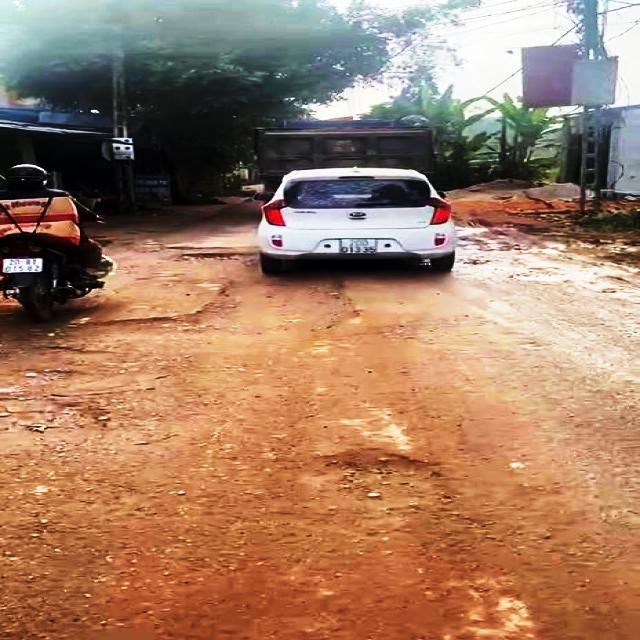pothole: (85, 296, 356, 336), (305, 448, 459, 510), (170, 250, 262, 265)
